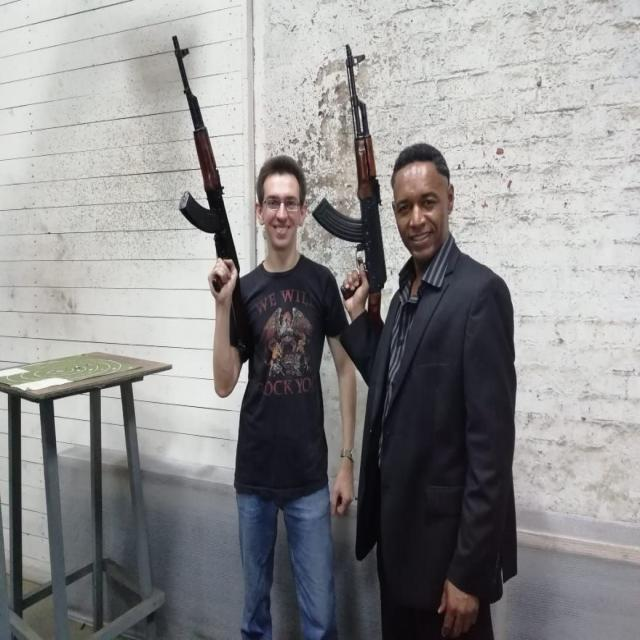weapon: (172, 34, 258, 364), (311, 44, 388, 357)
